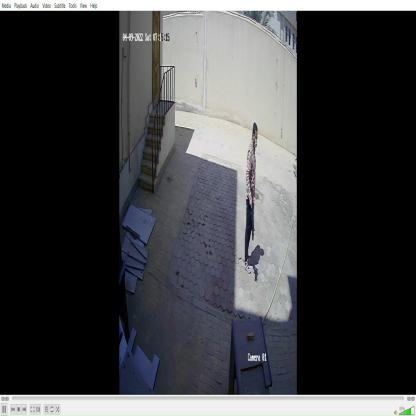handgun: (249, 186, 256, 240)
